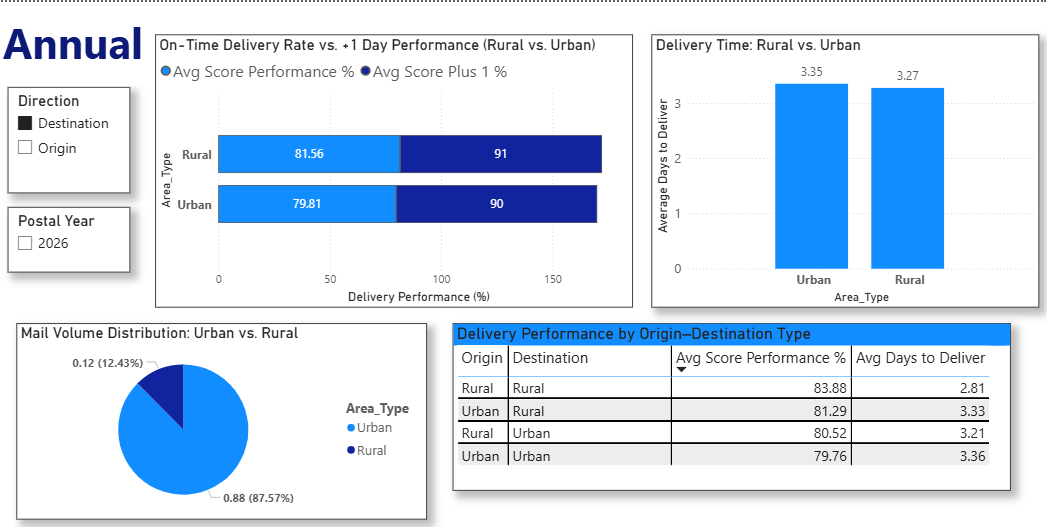

The page's visual inventory and layout, read from the dashboard file:
{"tool":"powerbi","page":{"name":"Annual (Origin, Destination)","canvas":[1400,700],"ordinal":0},"visuals":[{"type":"slicer","fields":{"Values":["fact_annual.Direction"]},"box":[11.4,112.9,162.9,141.4],"z":0},{"type":"barChart","title":"On-Time Delivery Rate vs. +1 Day Performance (Rural vs. Urban)","fields":{"Category":["fact_annual.Area_Type"],"Y":["Avg(fact_annual.Average Score Performance %)","Avg(fact_annual.Average Score Plus 1 %)"]},"box":[208.6,42.9,637.1,364.3],"z":1000},{"type":"columnChart","title":" Delivery Time: Rural vs. Urban","fields":{"Category":["fact_annual.Area_Type"],"Y":["Avg(fact_annual.Average Days to Deliver)"]},"box":[870,42.9,517.1,364.3],"z":2000},{"type":"slicer","fields":{"Values":["fact_annual.pstl_yr"]},"box":[11.4,272.9,162.9,87.1],"z":3000},{"type":"tableEx","title":"Delivery Performance by Origin–Destination Type","fields":{"Values":["origin_destination_annual.Origin_Area_Type","origin_destination_annual.Destination_Area_Type","Avg(origin_destination_annual.Average Score Performance %)","Avg(origin_destination_annual.Average Days to Deliver)"]},"box":[605.7,428.6,744.3,222.9],"z":4000},{"type":"pieChart","title":"Mail Volume Distribution: Urban vs. Rural","fields":{"Category":["fact_annual.Area_Type"],"Y":["fact_annual.Volume % Share"]},"box":[22.5,428.8,547.5,261.2],"z":5000},{"type":"textbox","box":[0,10,207.5,102.5],"z":6000}]}

Visuals, with their boxes in screenshot pixels (x1, y1, x2, y2), scaled from the page's 1400x700 canvas onto the 1047x527 screenshot:
slicer - fact_annual.Direction: bbox=(9, 85, 130, 191)
"On-Time Delivery Rate vs. +1 Day Performance (Rural vs. Urban)" barChart: bbox=(156, 32, 632, 307)
" Delivery Time: Rural vs. Urban" columnChart: bbox=(651, 32, 1037, 307)
slicer - fact_annual.pstl_yr: bbox=(9, 205, 130, 271)
"Delivery Performance by Origin–Destination Type" tableEx: bbox=(453, 323, 1010, 490)
"Mail Volume Distribution: Urban vs. Rural" pieChart: bbox=(17, 323, 426, 519)
textbox: bbox=(0, 8, 155, 85)
